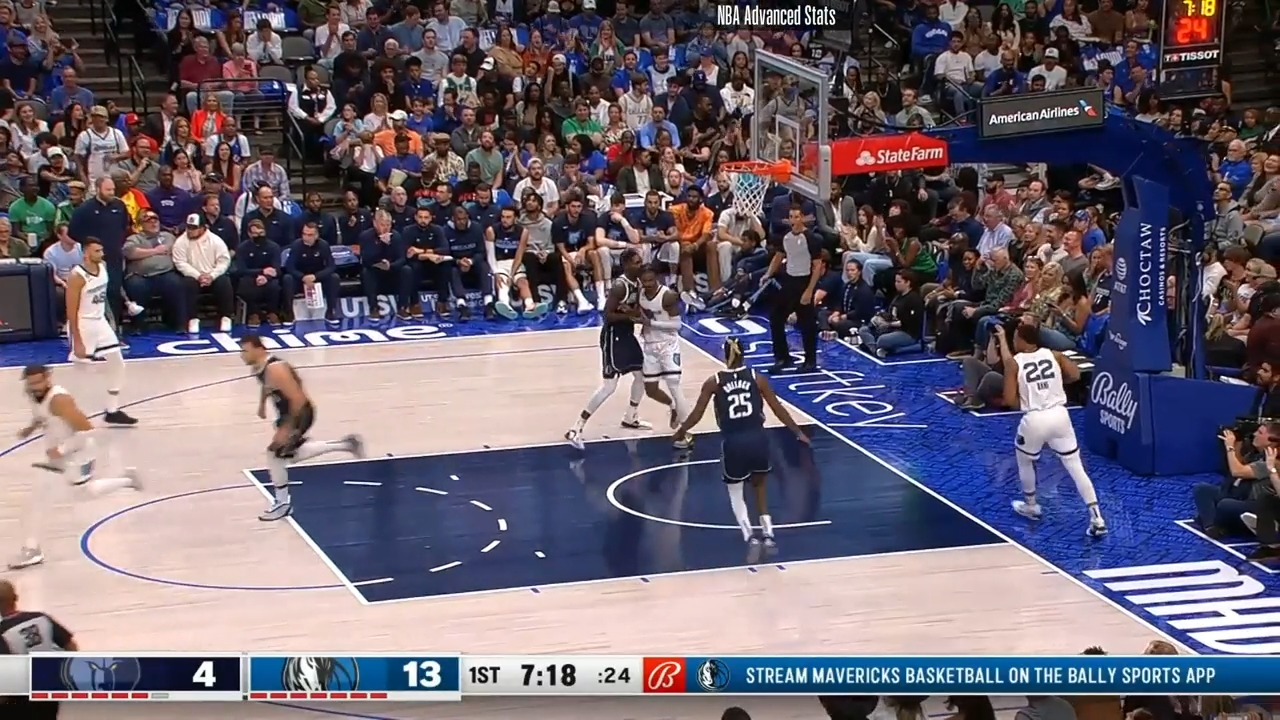net: (718, 152, 794, 214)
player: (671, 337, 816, 577), (5, 357, 149, 579), (232, 329, 373, 528), (997, 320, 1101, 542), (47, 236, 145, 439), (563, 250, 658, 451), (627, 258, 700, 451)
referee: (764, 210, 830, 375), (0, 562, 85, 654)
